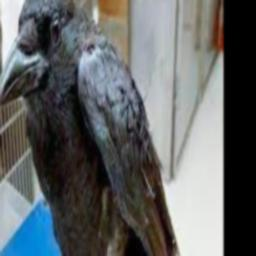Crow: (0, 0, 203, 256)
